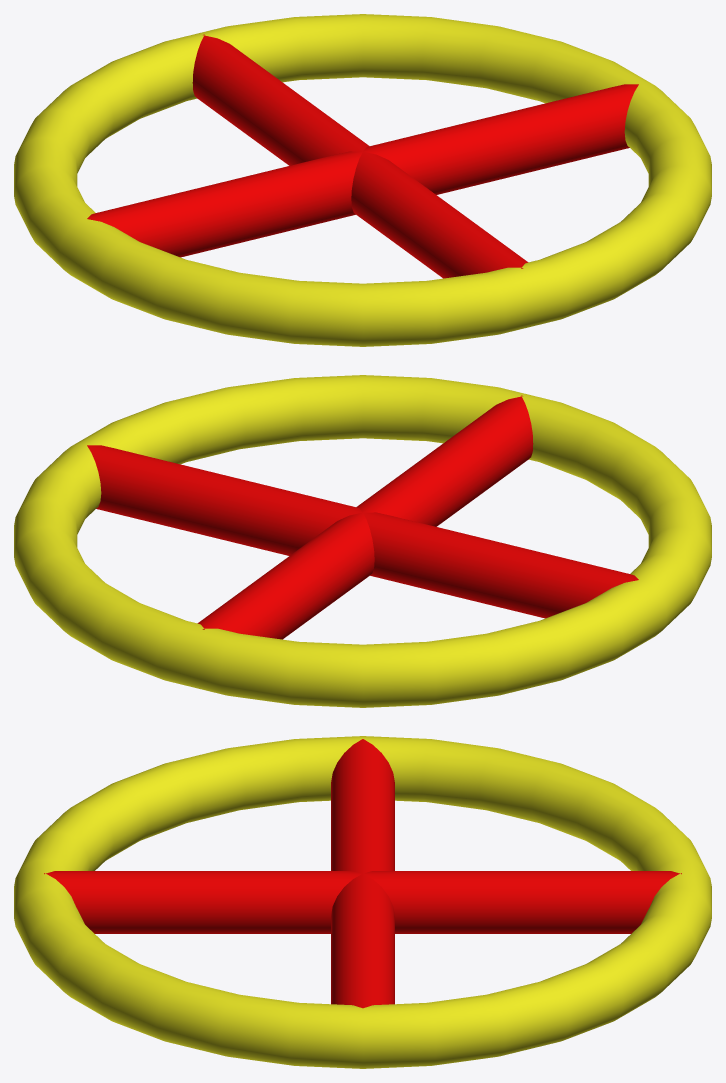
Rendered from Crosshair.fbx.
3 renders of one model, top to bottom at view 1: azimuth 30°, elevation 25°; view 2: azimuth 150°, elevation 25°; view 3: azimuth 270°, elevation 25°, orthographic.
Parts seen in each view (by area): view 1: pTorus1, pCylinder1, pCylinder2; view 2: pTorus1, pCylinder1, pCylinder2; view 3: pTorus1, pCylinder2, pCylinder1.
Part boxes in pixels (x1,y1,x2,y2): pTorus1: (14,14,711,346); pCylinder1: (87,84,638,257); pCylinder2: (192,34,528,278); pTorus1: (14,375,711,707); pCylinder1: (87,445,638,618); pCylinder2: (197,395,533,639); pTorus1: (14,736,711,1068); pCylinder2: (44,871,681,933); pCylinder1: (331,739,394,1008).
Size of the model in its own units: 6.6 by 0.6 by 6.56.
